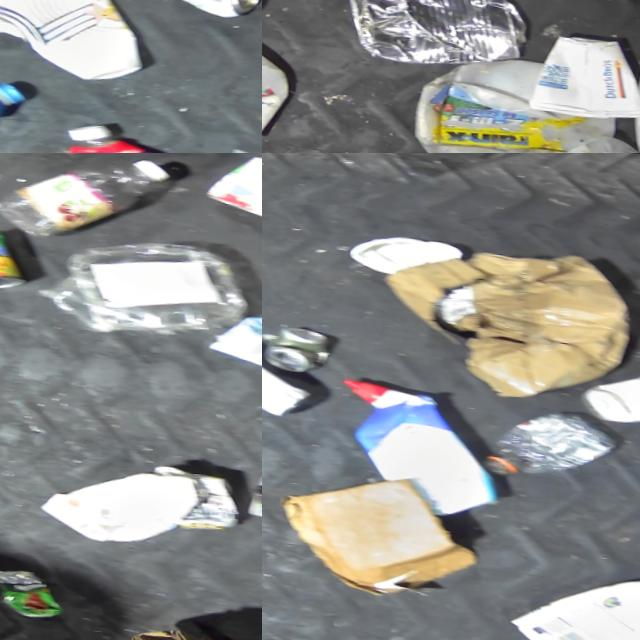can: (343, 0, 538, 73), (150, 461, 244, 532), (262, 322, 317, 418), (199, 153, 262, 224), (0, 563, 69, 620), (263, 322, 332, 373), (150, 0, 262, 21), (0, 224, 29, 292)
milk_jug: (404, 41, 630, 153), (38, 458, 201, 551), (506, 555, 640, 640), (262, 27, 299, 145), (204, 306, 262, 378)
non_white_jug: (331, 375, 508, 518), (45, 113, 230, 153)
plastic_bottle: (0, 153, 168, 248), (480, 401, 620, 481)
